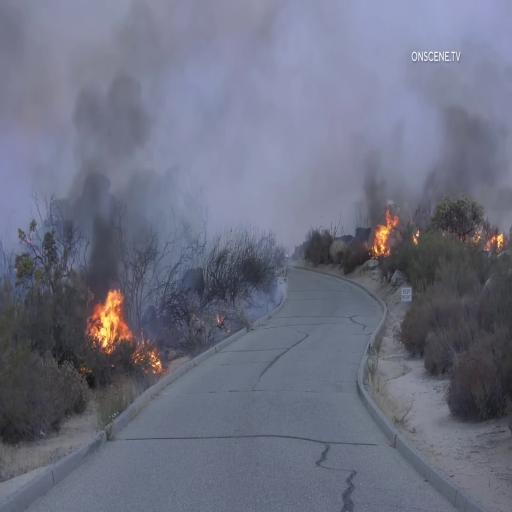fire: (74, 253, 143, 368), (360, 186, 402, 270)
smoke: (163, 18, 403, 198)
